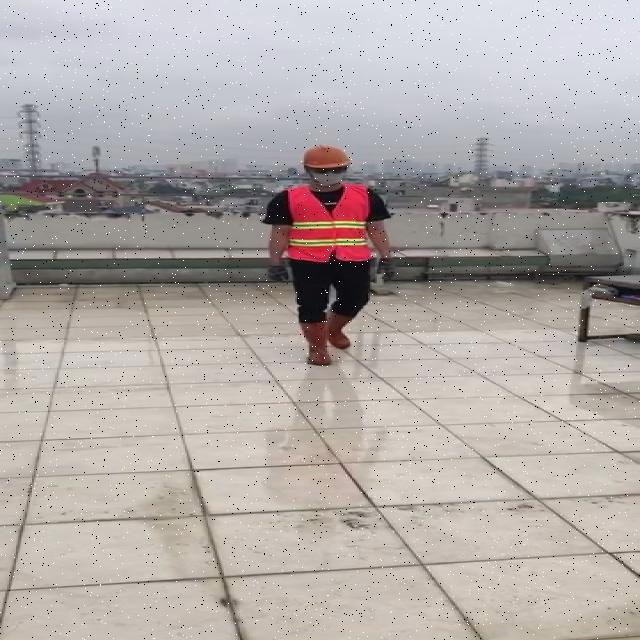Hard_hat: (297, 143, 355, 173)
Person: (253, 136, 400, 396)
Vest: (285, 182, 376, 266)
